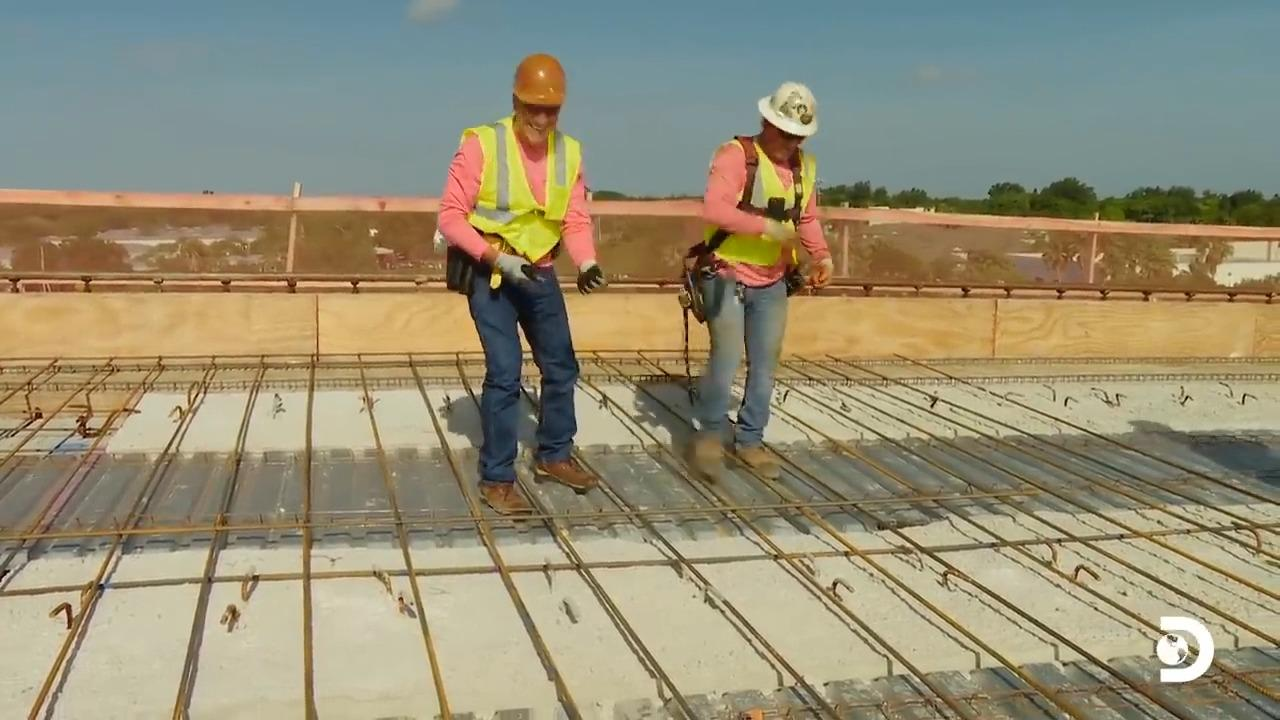Gloves: (493, 249, 545, 292), (575, 257, 604, 296), (812, 257, 837, 295), (771, 219, 795, 252)
Helmet: (757, 81, 818, 137), (512, 53, 565, 107)
Person: (443, 54, 614, 517), (682, 80, 834, 483)
Safety Boot: (478, 471, 531, 521), (528, 454, 596, 492), (731, 437, 781, 483), (690, 434, 725, 483)
Safety Vest: (479, 139, 576, 257), (739, 157, 804, 268)
